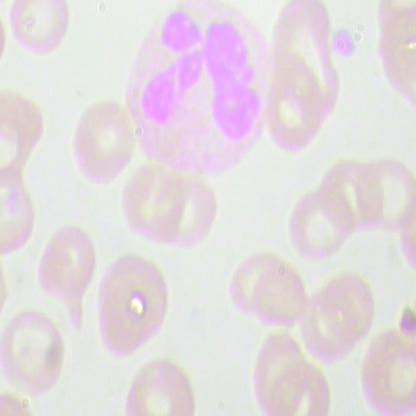Platelets: (329, 25, 362, 62)
RBC: (90, 248, 174, 364), (60, 97, 142, 185), (35, 224, 100, 332), (280, 183, 356, 266), (1, 308, 66, 402), (294, 281, 362, 370), (156, 170, 226, 250), (245, 328, 307, 415), (117, 357, 203, 415), (8, 0, 70, 58)
WBC: (115, 1, 281, 185)
